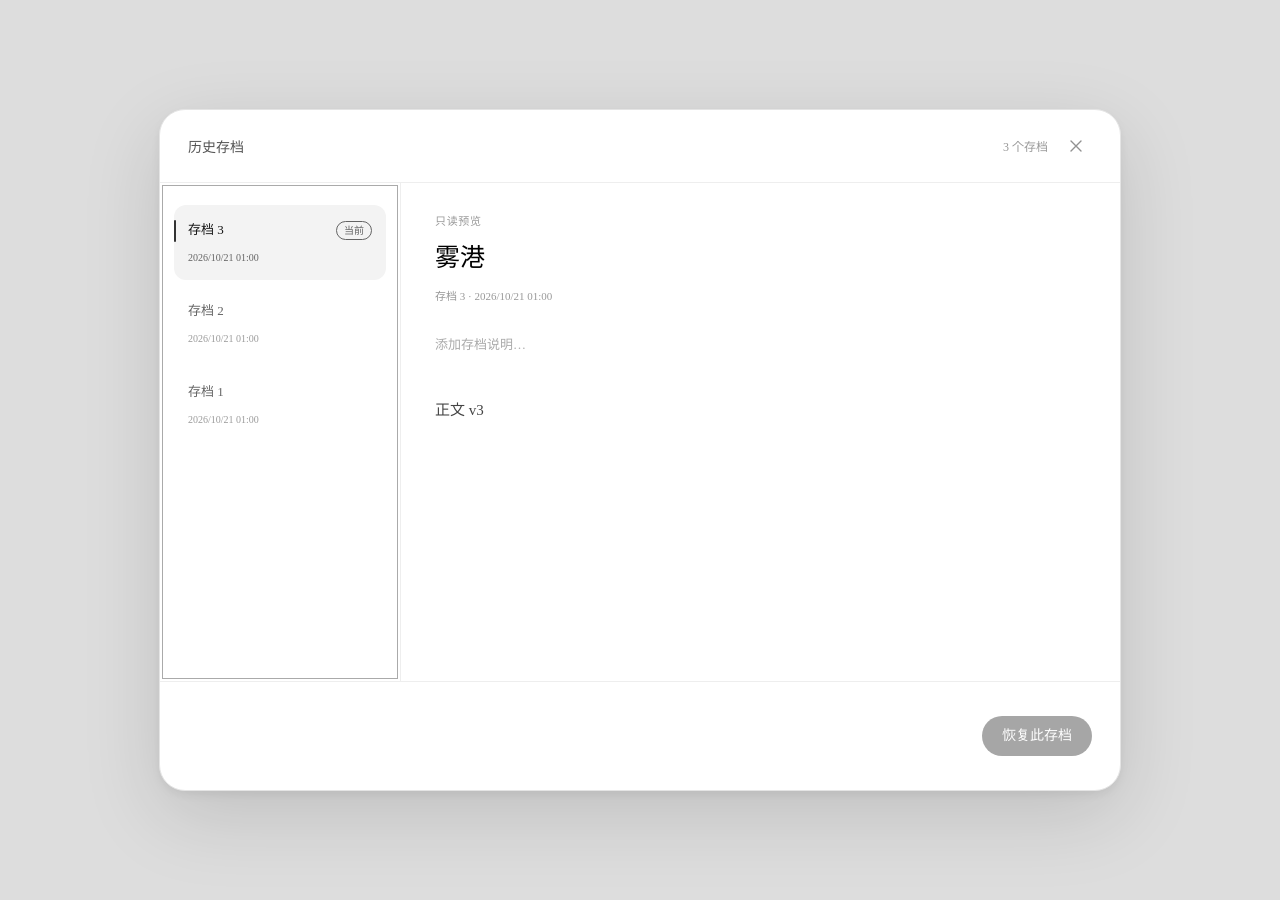
Scenario: flushes on selection and keeps each point draft independent while another patch is pending
This screenshot has width=1280, height=900.
Expected: the element named "存档正文" reads "正文 v3", top-left (435, 402), bottom-right (484, 418)
Type "第三份" into the field labelled "存档说明" at (760, 345), box top-left (435, 320), bottom-right (1086, 369)
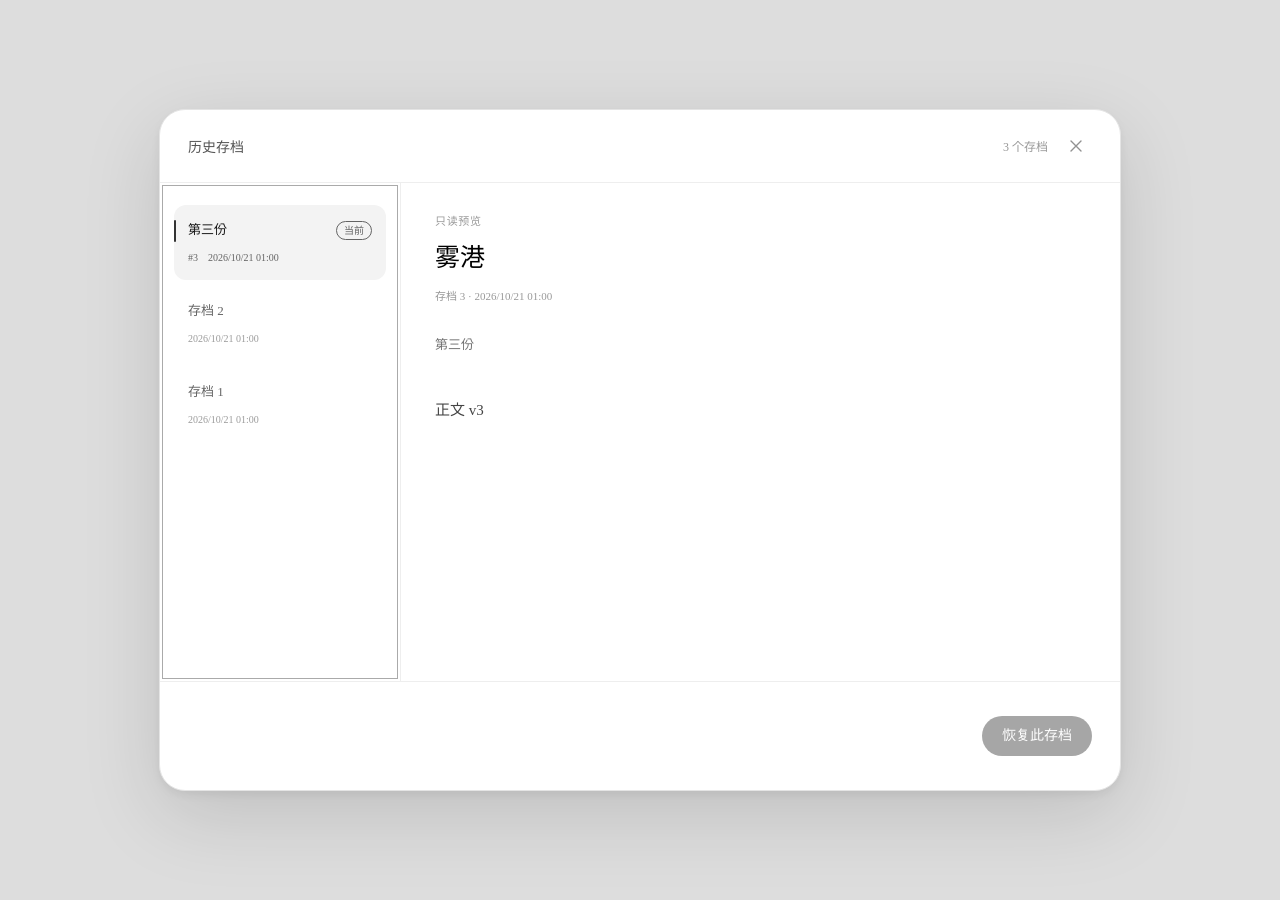
Click the button "存档 2 2026/10/21 01:00" at (280, 324), box top-left (174, 286), bottom-right (386, 361)
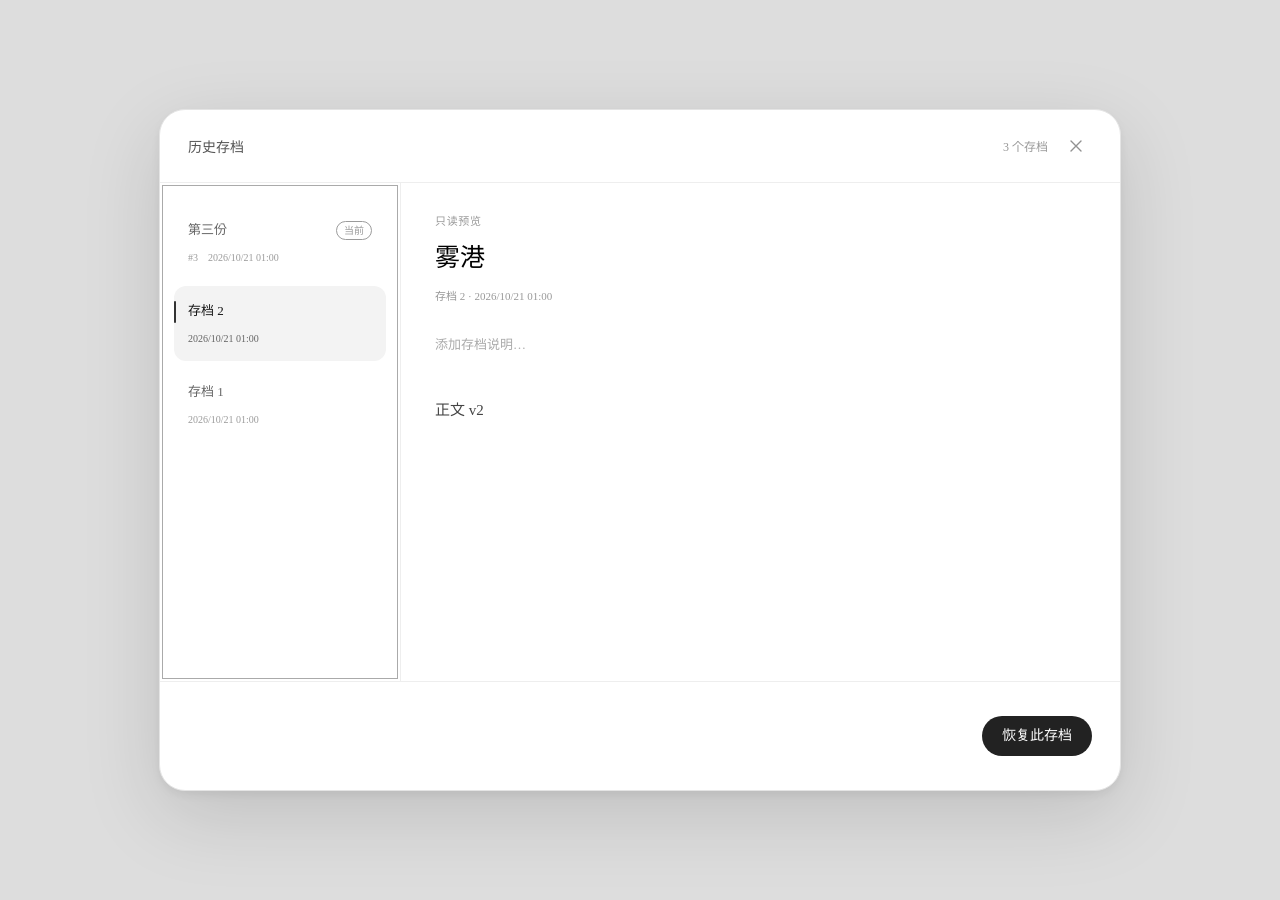
Now the element named "存档正文" reads "正文 v2", box top-left (435, 402), bottom-right (484, 418)
Type "第二份" into the field labelled "存档说明" at (760, 345), box top-left (435, 320), bottom-right (1086, 369)
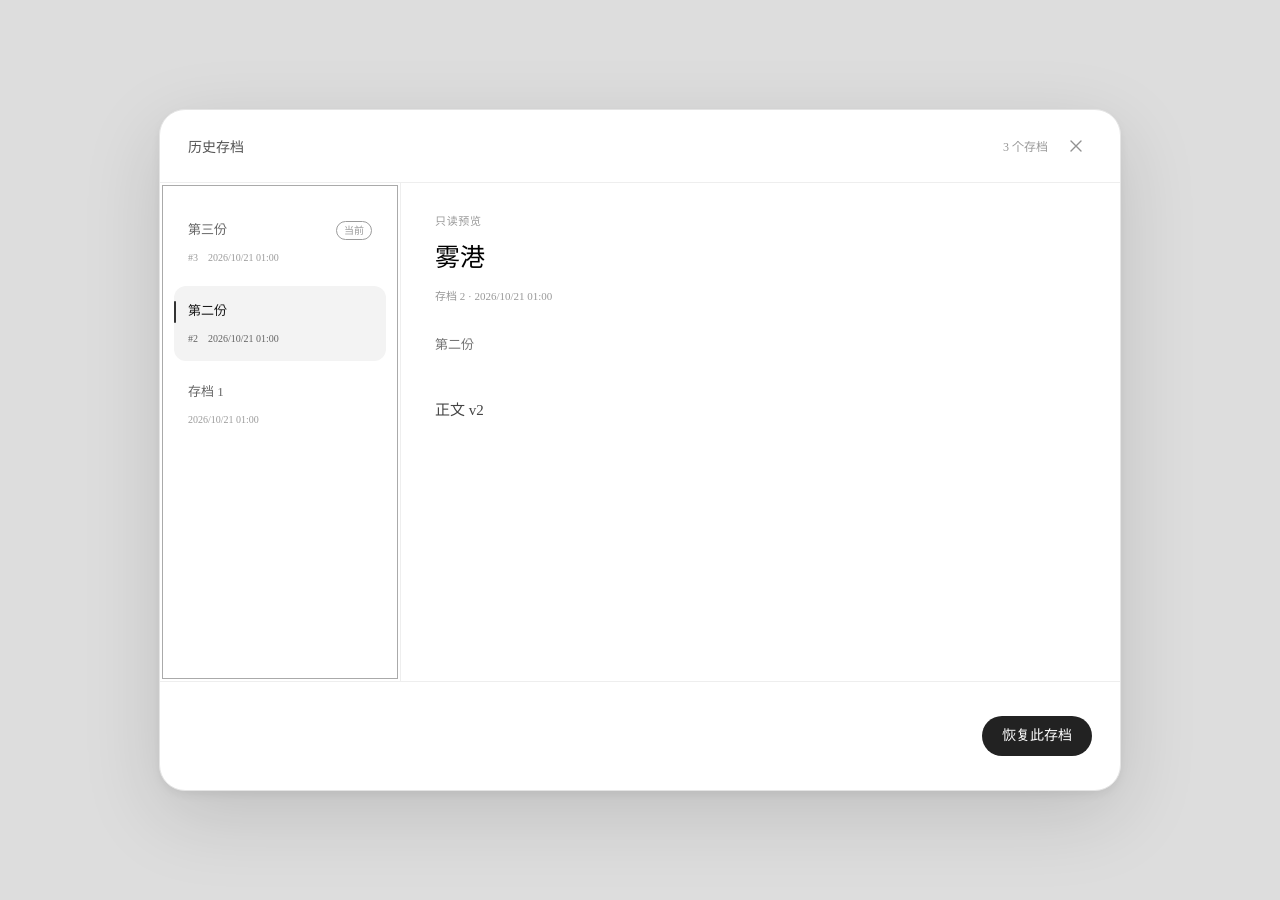
Press Enter in the field named "存档说明", box top-left (435, 320), bottom-right (1086, 369)
Now the button with aria-label "存档 3" shows "第三份"
Click the button with aria-label "存档 3" at (280, 243), box top-left (174, 205), bottom-right (386, 280)
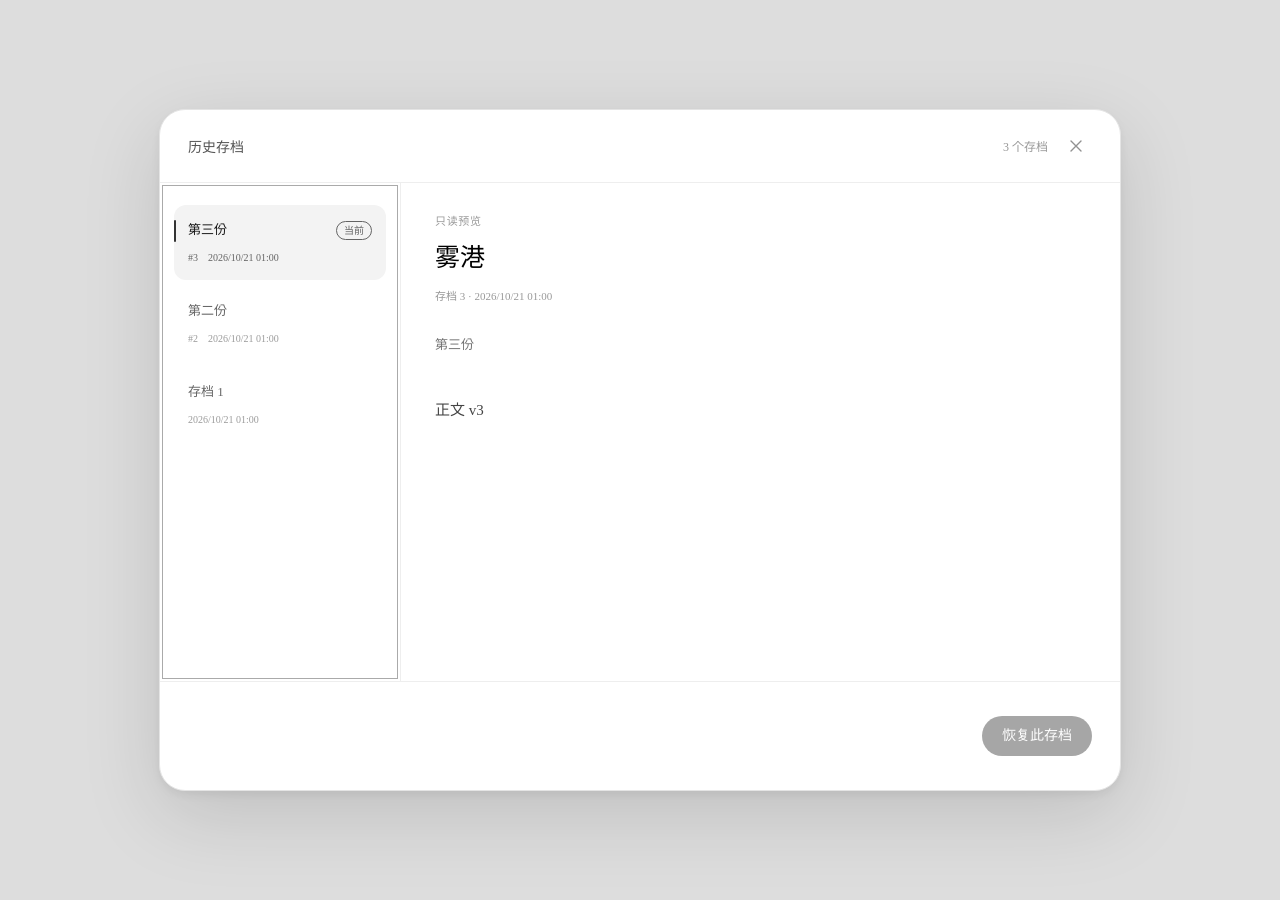
Now the element named "存档正文" reads "正文 v3", box top-left (435, 402), bottom-right (484, 418)
Now the field named "存档说明" holds "第三份", box top-left (435, 320), bottom-right (1086, 369)
